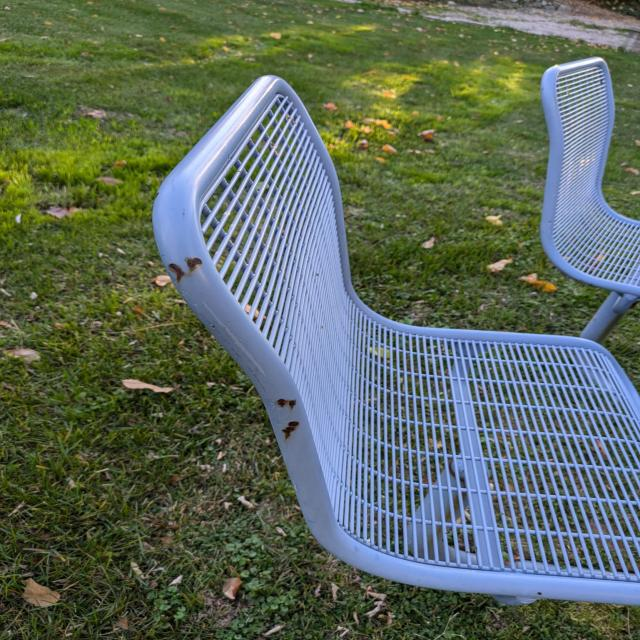Crevice Corrosion: (163, 246, 218, 296), (265, 391, 306, 449)
